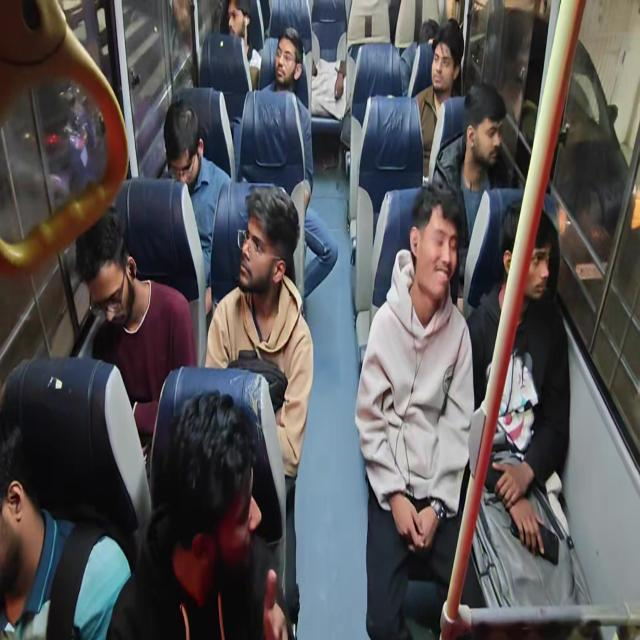person: (157, 394, 261, 570), (72, 196, 140, 336), (402, 183, 471, 310), (0, 420, 47, 595), (236, 183, 297, 317), (498, 192, 568, 306), (162, 96, 206, 197), (462, 89, 508, 184), (275, 19, 307, 92), (430, 21, 459, 98), (222, 0, 250, 46), (414, 22, 449, 48)
